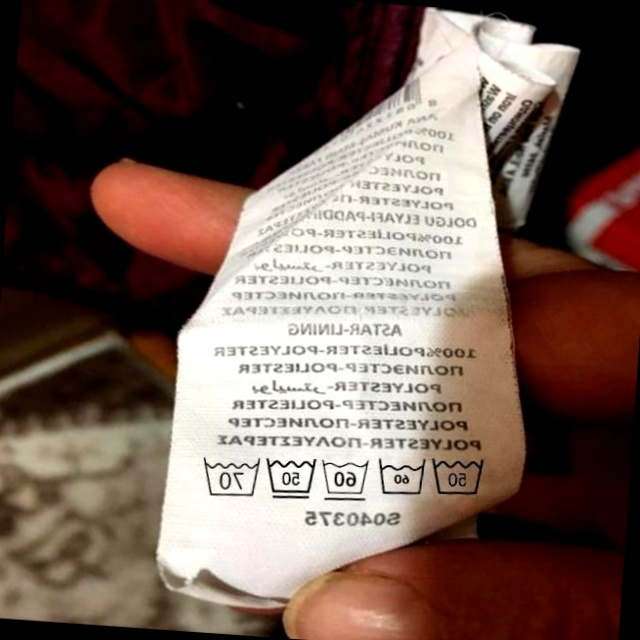50C: (426, 448, 491, 502), (260, 451, 319, 504)
60C: (315, 452, 372, 504), (372, 452, 429, 502)
70C: (194, 452, 261, 501)
